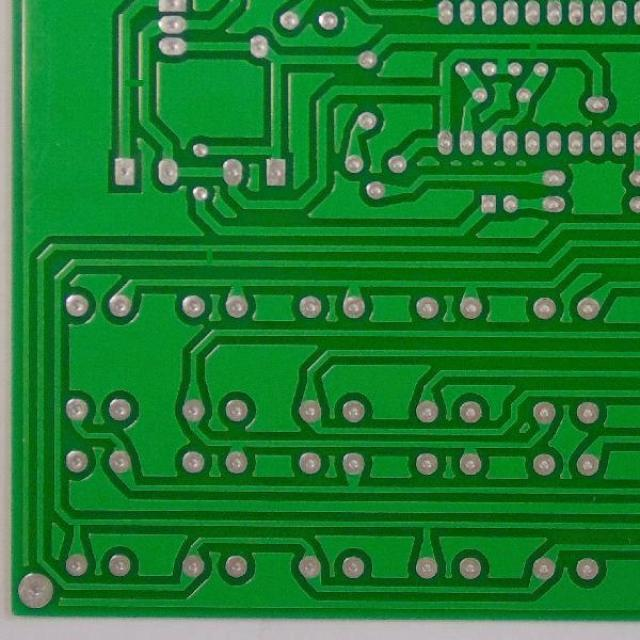short: (117, 69, 155, 94), (198, 242, 219, 270), (519, 33, 542, 57)
